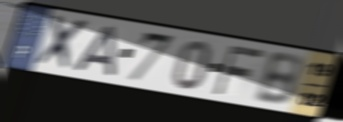0: (169, 38, 214, 92)
7: (127, 29, 176, 83)
A: (70, 24, 118, 78)
B: (252, 51, 304, 108)
F: (211, 43, 267, 97)
X: (30, 12, 91, 75)
